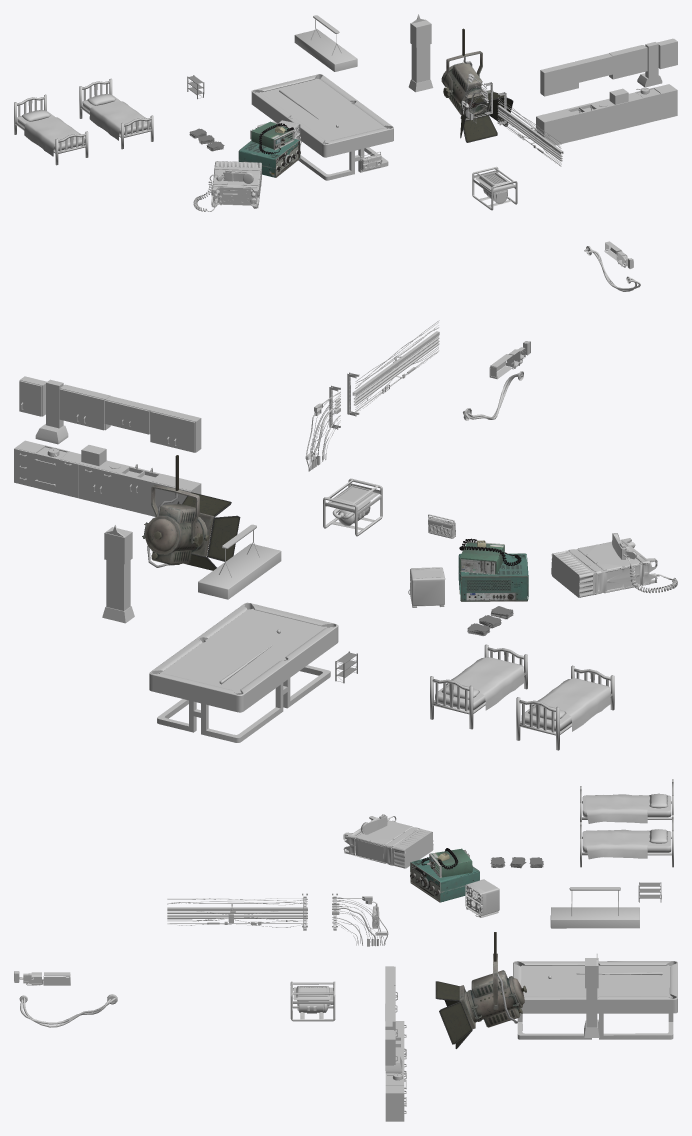
3 renders of one model, top to bottom at view 1: azimuth 30°, elevation 25°; view 2: azimuth 150°, elevation 25°; view 3: azimuth 270°, elevation 25°, orthographic. The views are drawn at different scales.
Parts seen in each view (by area): view 1: PoolTable_3_PoolTable_3_Mat_0, Cylinder.003, bed02_two_old_beds_001, bed01_two_old_beds_005, Leopard1_Leopard_0, Light_2_Light_2_Mat_0, Clock_2, frontPanel_low_Radio01_0, Cables_Asset_N_B_0, Generator_Roof_assets_0, Cupboard_2_1_2, Cupboard_2_1_3 (+12 smaller); view 2: PoolTable_3_PoolTable_3_Mat_0, Cylinder.003, Leopard1_Leopard_0, bed01_two_old_beds_005, bed02_two_old_beds_001, Light_2_Light_2_Mat_0, frontPanel_low_Radio01_0, Clock_2, Cables_Asset_N_B_0, Generator_Roof_assets_0, Cupboard_2_1_2, Cupboard_2_1_3 (+12 smaller); view 3: PoolTable_3_PoolTable_3_Mat_0, Cylinder.003, Leopard1_Leopard_0, Cables_Asset_N_B_0, bed02_two_old_beds_001, bed01_two_old_beds_005, Light_2_Light_2_Mat_0, frontPanel_low_Radio01_0, Generator_Roof_assets_0, Cables_Curve_Asset_N_B_0, Base_Low.003, Clock_2 (+4 smaller).
Boxes of the visible parts, x1=… form: PoolTable_3_PoolTable_3_Mat_0: x1=251, y1=74, x2=393, y2=180; Cylinder.003: x1=441, y1=51, x2=513, y2=142; bed02_two_old_beds_001: x1=79, y1=78, x2=153, y2=149; bed01_two_old_beds_005: x1=14, y1=94, x2=88, y2=165; Leopard1_Leopard_0: x1=193, y1=161, x2=261, y2=211; Light_2_Light_2_Mat_0: x1=294, y1=15, x2=357, y2=71; Clock_2: x1=408, y1=14, x2=433, y2=92; frontPanel_low_Radio01_0: x1=238, y1=137, x2=300, y2=177; Cables_Asset_N_B_0: x1=497, y1=92, x2=563, y2=166; Generator_Roof_assets_0: x1=472, y1=166, x2=517, y2=210; Cupboard_2_1_2: x1=540, y1=62, x2=578, y2=96; Cupboard_2_1_3: x1=609, y1=45, x2=647, y2=79; PoolTable_3_PoolTable_3_Mat_0: x1=149, y1=602, x2=338, y2=742; Cylinder.003: x1=142, y1=484, x2=240, y2=570; Leopard1_Leopard_0: x1=551, y1=533, x2=677, y2=597; bed01_two_old_beds_005: x1=516, y1=665, x2=614, y2=750; bed02_two_old_beds_001: x1=430, y1=644, x2=527, y2=729; Light_2_Light_2_Mat_0: x1=198, y1=524, x2=281, y2=599; frontPanel_low_Radio01_0: x1=458, y1=553, x2=528, y2=601; Clock_2: x1=102, y1=525, x2=134, y2=623; Cables_Asset_N_B_0: x1=347, y1=320, x2=439, y2=416; Generator_Roof_assets_0: x1=323, y1=478, x2=382, y2=536; Cupboard_2_1_2: x1=150, y1=407, x2=201, y2=452; Cupboard_2_1_3: x1=59, y1=384, x2=110, y2=430; PoolTable_3_PoolTable_3_Mat_0: x1=513, y1=961, x2=677, y2=1039; Cylinder.003: x1=435, y1=953, x2=526, y2=1048; Leopard1_Leopard_0: x1=343, y1=814, x2=433, y2=868; Cables_Asset_N_B_0: x1=167, y1=893, x2=307, y2=930; bed02_two_old_beds_001: x1=580, y1=814, x2=673, y2=867; bed01_two_old_beds_005: x1=580, y1=779, x2=673, y2=823; Light_2_Light_2_Mat_0: x1=550, y1=887, x2=639, y2=928; frontPanel_low_Radio01_0: x1=410, y1=857, x2=479, y2=902; Generator_Roof_assets_0: x1=290, y1=981, x2=335, y2=1021; Cables_Curve_Asset_N_B_0: x1=332, y1=893, x2=388, y2=946; Base_Low.003: x1=465, y1=879, x2=499, y2=917; Clock_2: x1=584, y1=953, x2=599, y2=1037.
Bounding box in the file's own units: 46145 × 44726 × 11426.
